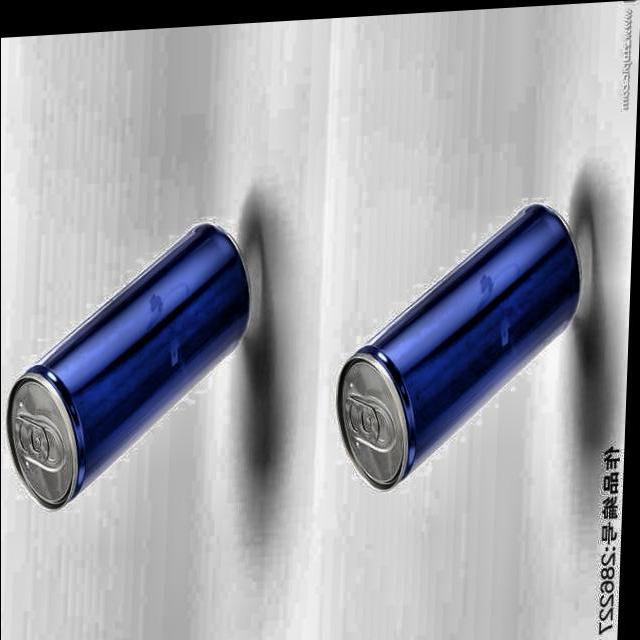litter: (326, 181, 598, 502), (0, 212, 263, 512)
